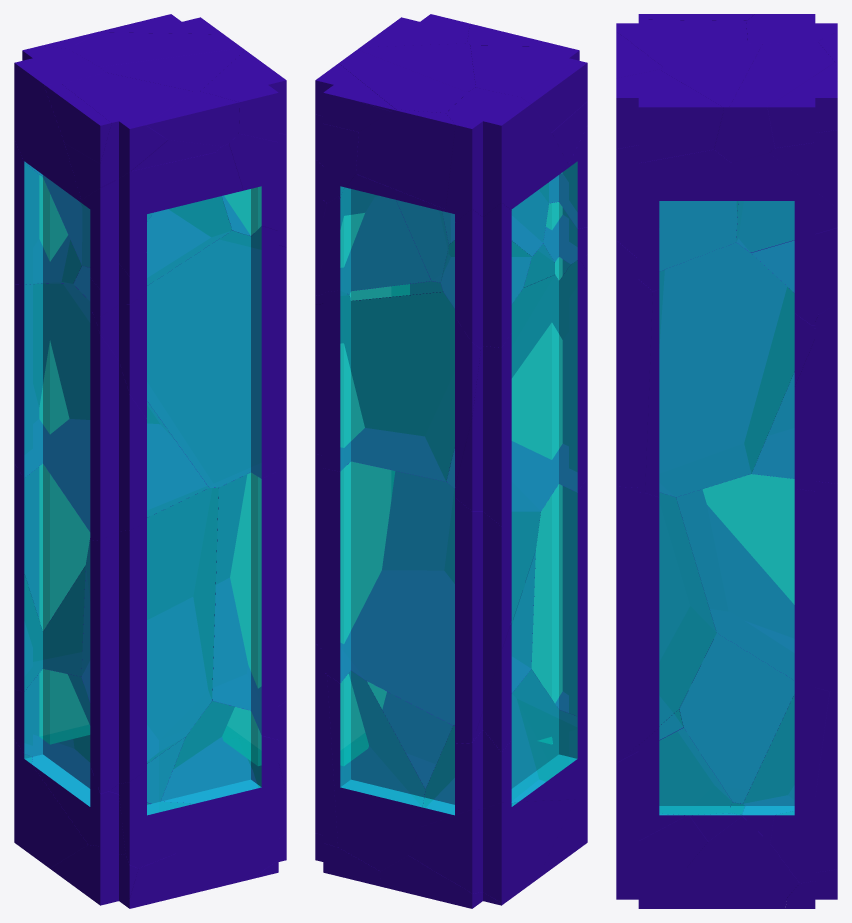
The model's file is skyscraperComplex.gltf.
3 renders of one model, left to right at view 1: azimuth 30°, elevation 25°; view 2: azimuth 150°, elevation 25°; view 3: azimuth 270°, elevation 25°, orthographic. The views are drawn at different scales.
Parts seen in each view (by area): view 1: Cube_cell.033, Cube_cell.009, Cube_cell.006, Cube_cell.031, Cube_cell.003, Cube_cell.023, Cube_cell.004, Cube_cell.032, Cube_cell.044, Cube_cell.026, Cube_cell.019, Cube_cell.027 (+14 smaller); view 2: Cube_cell.044, Cube_cell.015, Cube_cell.006, Cube_cell.023, Cube_cell.004, Cube_cell.040, Cube_cell.009, Cube_cell.014, Cube_cell.027, Cube_cell.010, Cube_cell.022, Cube_cell.019 (+18 smaller); view 3: Cube_cell.020, Cube_cell.044, Cube_cell.031, Cube_cell.002, Cube_cell.008, Cube_cell.003, Cube_cell.036, Cube_cell.015, Cube_cell.037, Cube_cell.033, Cube_cell.029, Cube_cell.043 (+14 smaller).
Part boxes in pixels (<box>): Cube_cell.033: <box>95,226,286,487</box>; Cube_cell.009: <box>81,487,218,794</box>; Cube_cell.006: <box>14,283,208,540</box>; Cube_cell.031: <box>212,455,286,739</box>; Cube_cell.003: <box>160,700,286,872</box>; Cube_cell.023: <box>14,668,151,854</box>; Cube_cell.004: <box>14,46,105,267</box>; Cube_cell.032: <box>90,144,243,316</box>; Cube_cell.044: <box>14,463,90,631</box>; Cube_cell.026: <box>81,152,214,289</box>; Cube_cell.019: <box>62,72,193,199</box>; Cube_cell.027: <box>14,140,81,284</box>; Cube_cell.044: <box>315,454,540,743</box>; Cube_cell.015: <box>315,290,480,486</box>; Cube_cell.006: <box>446,260,587,526</box>; Cube_cell.023: <box>420,669,587,827</box>; Cube_cell.004: <box>442,87,568,256</box>; Cube_cell.040: <box>327,670,425,871</box>; Cube_cell.009: <box>531,478,587,730</box>; Cube_cell.014: <box>408,799,574,903</box>; Cube_cell.027: <box>441,202,531,348</box>; Cube_cell.010: <box>315,187,431,295</box>; Cube_cell.022: <box>356,109,455,209</box>; Cube_cell.019: <box>470,45,587,164</box>; Cube_cell.020: <box>645,242,817,496</box>; Cube_cell.044: <box>676,474,837,692</box>; Cube_cell.031: <box>616,486,716,762</box>; Cube_cell.002: <box>616,145,738,291</box>; Cube_cell.008: <box>679,633,794,803</box>; Cube_cell.003: <box>616,727,732,886</box>; Cube_cell.036: <box>729,153,837,325</box>; Cube_cell.015: <box>751,303,837,490</box>; Cube_cell.037: <box>770,683,837,883</box>; Cube_cell.033: <box>616,240,652,492</box>; Cube_cell.029: <box>616,69,723,163</box>; Cube_cell.043: <box>714,41,834,162</box>.
Size of the model in its own units: 5 by 20 by 5.
